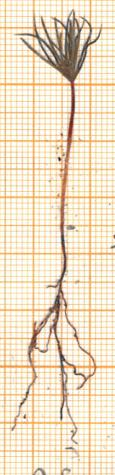flower: (13, 7, 106, 85)
root: (9, 229, 100, 449)
stem: (56, 87, 79, 228)
